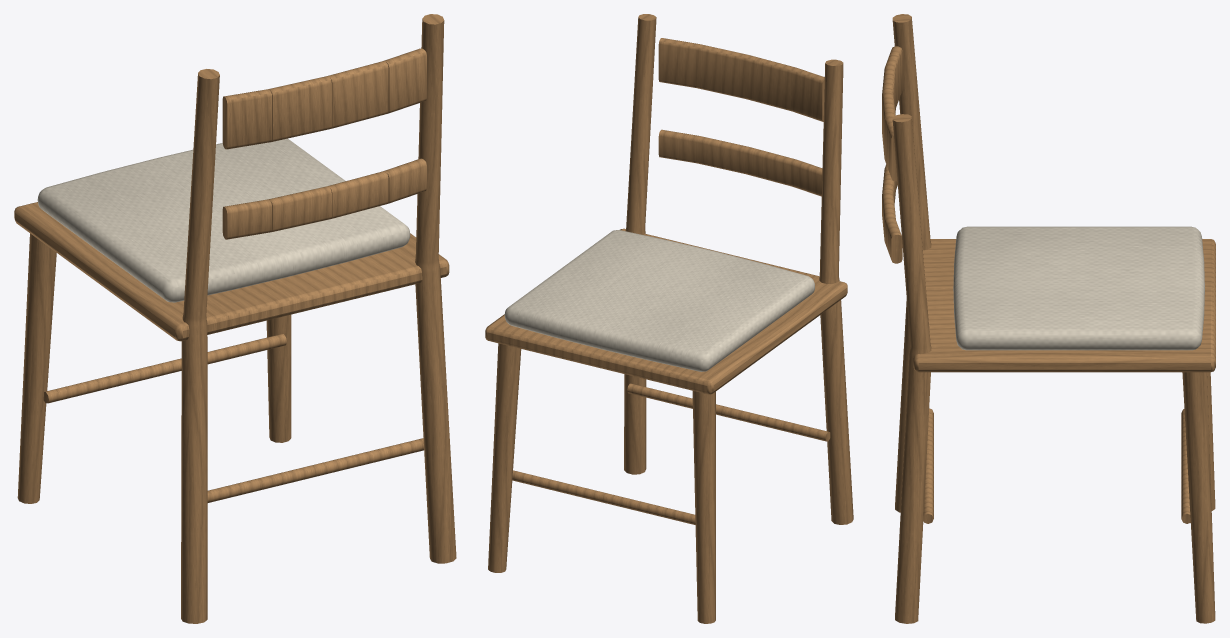
The model's file is dining_chair.glb.
The picture shows the model from 3 angles, left to right: view 1: azimuth 30°, elevation 25°; view 2: azimuth 150°, elevation 25°; view 3: azimuth 270°, elevation 25°; orthographic projection. The views are drawn at different scales.
Visible parts, largest first — view 1: dining_chair; view 2: dining_chair; view 3: dining_chair.
Boxes of the visible parts, x1=… form: dining_chair: x1=14, y1=14, x2=456, y2=623; dining_chair: x1=485, y1=14, x2=853, y2=623; dining_chair: x1=882, y1=14, x2=1215, y2=623.
Bounding box in the file's own units: 2 × 3.81 × 2.32.
Materials: 2 (2 with a texture image).
